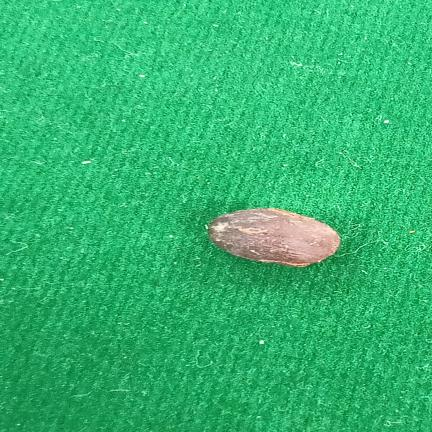husk: (208, 208, 340, 267)
